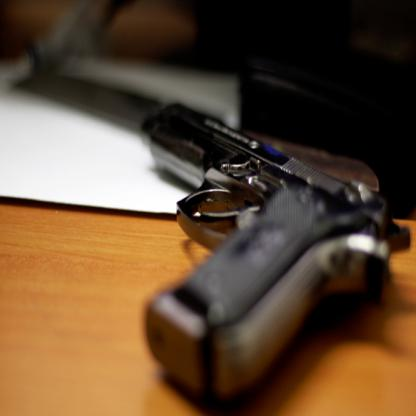Handgun: (137, 97, 411, 404)
